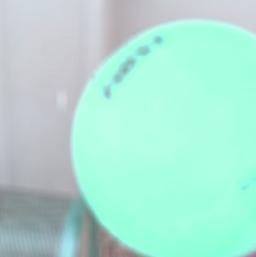algae: (70, 17, 256, 257)
